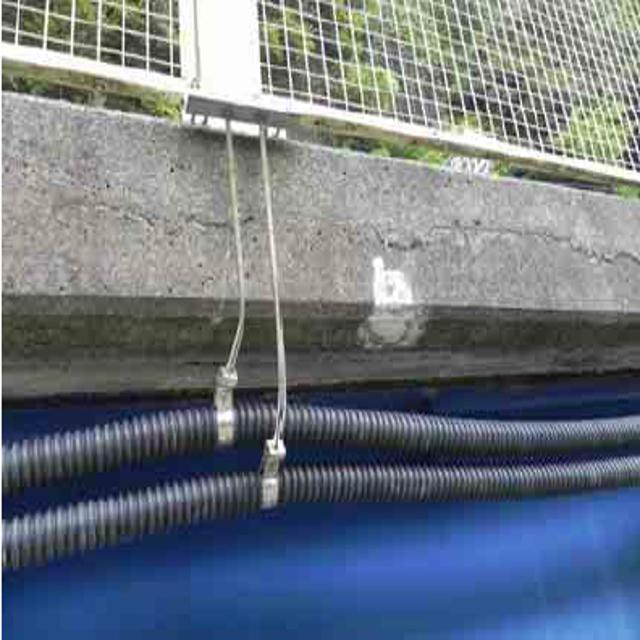crack: (376, 206, 633, 278), (57, 180, 262, 250)
